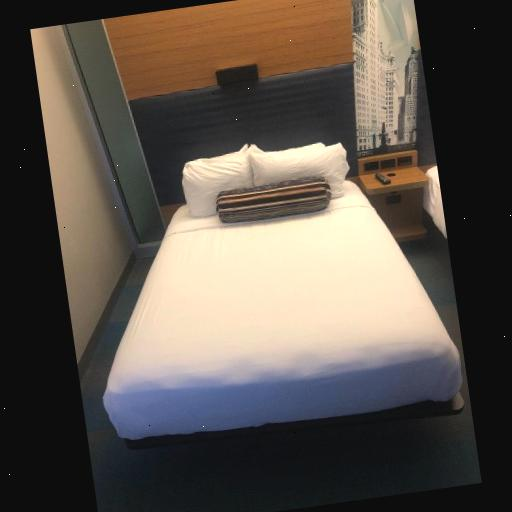clean_bed: (107, 67, 462, 455)
organised_pillow: (171, 131, 357, 235)
organized table: (361, 147, 436, 244)
